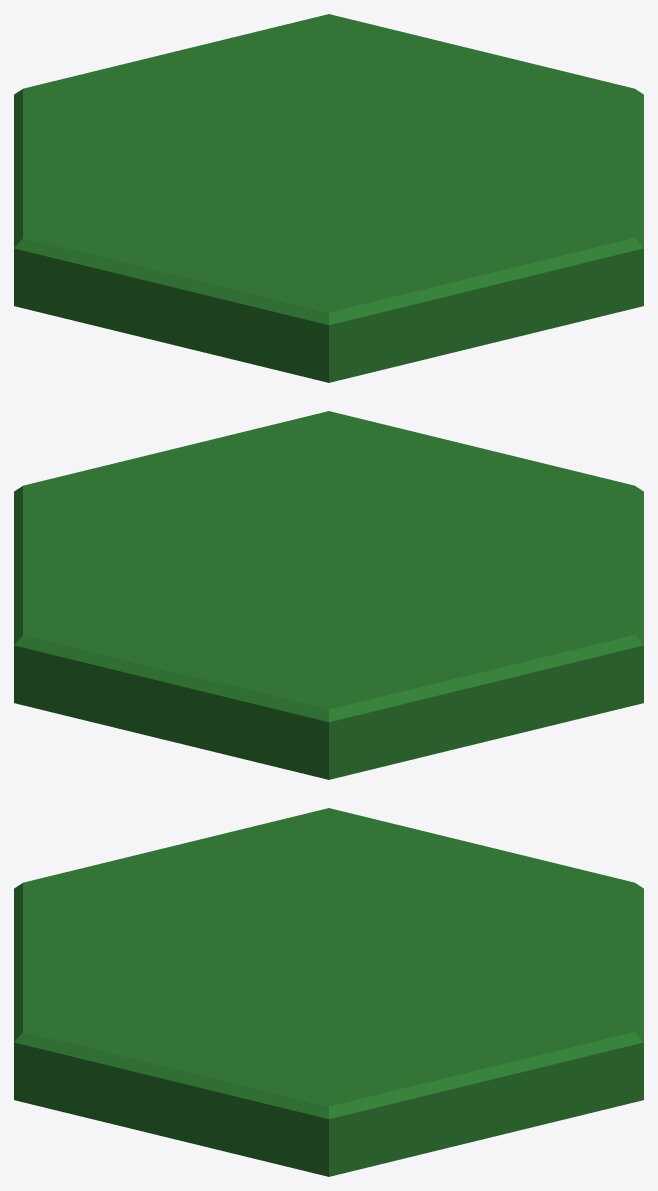
The model's file is simple_tile_forest.gltf.
3 views of the same model, one above another, from view 1: azimuth 30°, elevation 25°; view 2: azimuth 150°, elevation 25°; view 3: azimuth 270°, elevation 25° (orthographic).
Visible parts, largest first — view 1: Circle; view 2: Circle; view 3: Circle.
Part boxes in pixels (x1,y1,x2,y2): Circle: (14, 14, 643, 382); Circle: (14, 411, 643, 779); Circle: (14, 808, 643, 1176).
Size of the model in its own units: 2 by 0.2 by 1.73.
